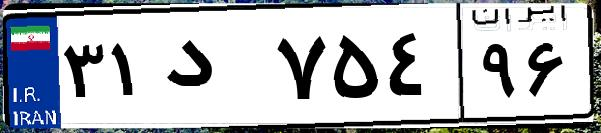1: (110, 28, 158, 98)
3: (57, 26, 110, 100)
4: (385, 28, 445, 110)
5: (330, 28, 385, 110)
6: (525, 38, 570, 115)
7: (270, 28, 330, 110)
9: (475, 38, 525, 113)
د: (158, 20, 270, 120)
